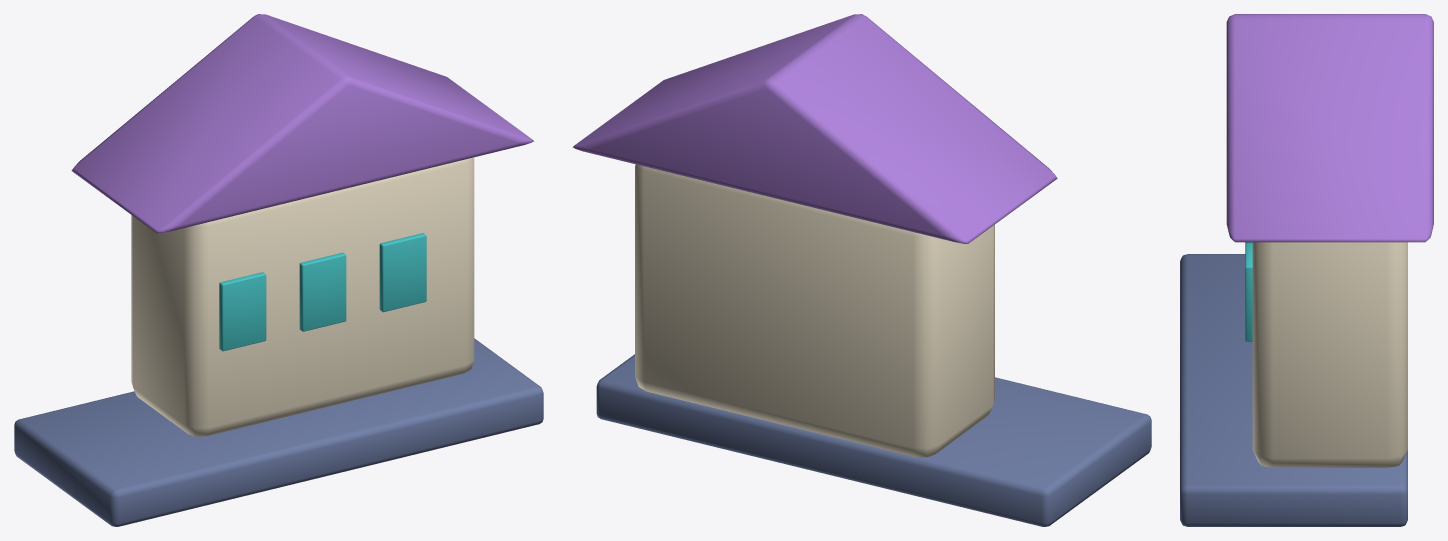
The model's file is r021_sky_lagoon_train_presentation_train_06.glb.
3 renders of one model, left to right at view 1: azimuth 30°, elevation 25°; view 2: azimuth 150°, elevation 25°; view 3: azimuth 270°, elevation 25°, orthographic. The views are drawn at different scales.
Visible parts, largest first — view 1: r021_sky_lagoon_train_presentation_train_06.001; view 2: r021_sky_lagoon_train_presentation_train_06.001; view 3: r021_sky_lagoon_train_presentation_train_06.001.
Boxes of the visible parts, x1,y1,x2,y2 form: r021_sky_lagoon_train_presentation_train_06.001: (14, 14, 543, 526); r021_sky_lagoon_train_presentation_train_06.001: (572, 14, 1151, 526); r021_sky_lagoon_train_presentation_train_06.001: (1180, 14, 1433, 526).
Size of the model in its own units: 5.56 by 4.45 by 2.45.
